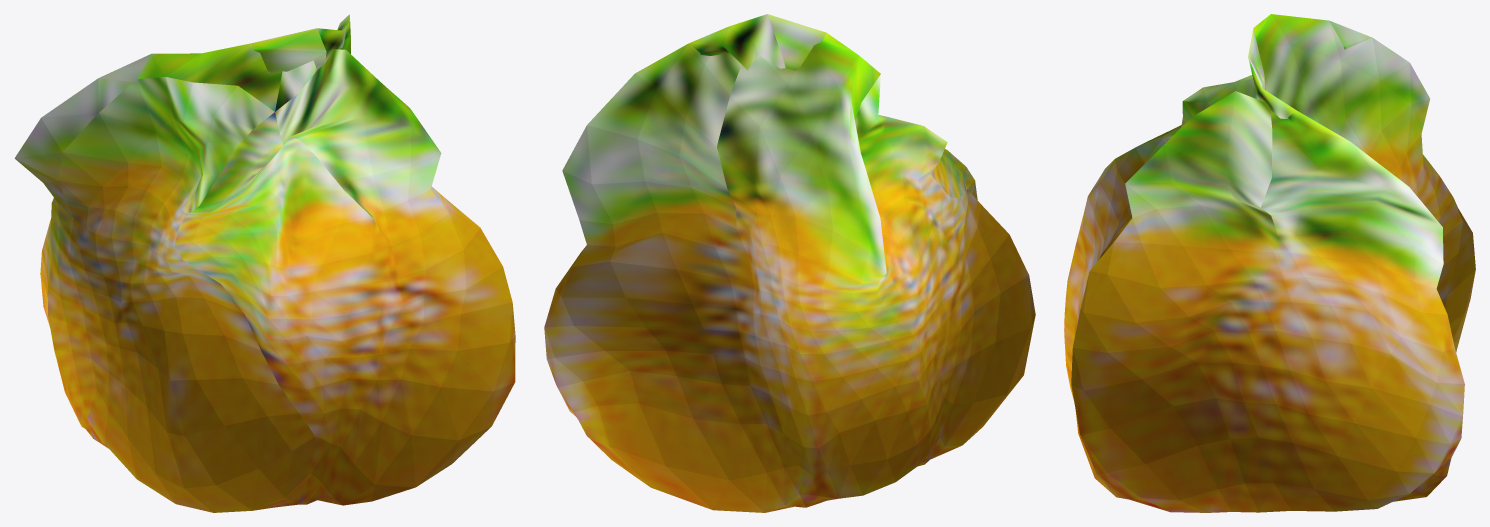
3 views of the same model, side by side, from view 1: azimuth 30°, elevation 25°; view 2: azimuth 150°, elevation 25°; view 3: azimuth 270°, elevation 25° (orthographic).
Parts seen in each view (by area): view 1: pMesh1; view 2: pMesh1; view 3: pMesh1.
Boxes of the visible parts, x1,y1,x2,y2 form: pMesh1: [14, 14, 515, 512]; pMesh1: [544, 14, 1035, 512]; pMesh1: [1064, 14, 1475, 512].
Size of the model in its own units: 2.5 by 3.09 by 2.68.
Materials: 1 (1 with a texture image).
